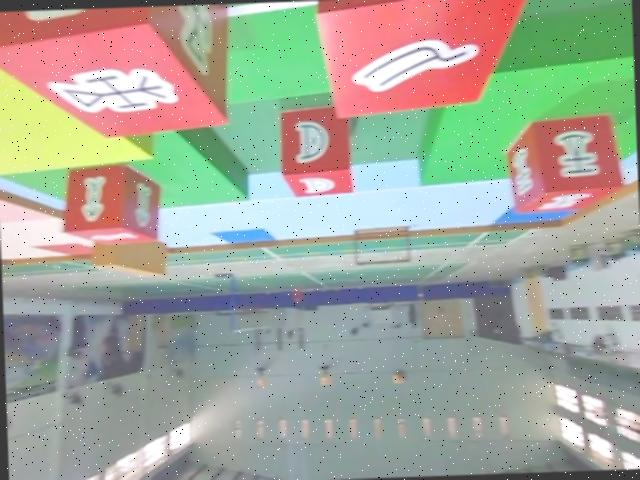R2 Real: (0, 3, 229, 145), (315, 0, 532, 119), (507, 115, 624, 214), (63, 160, 161, 245), (277, 104, 354, 198)
